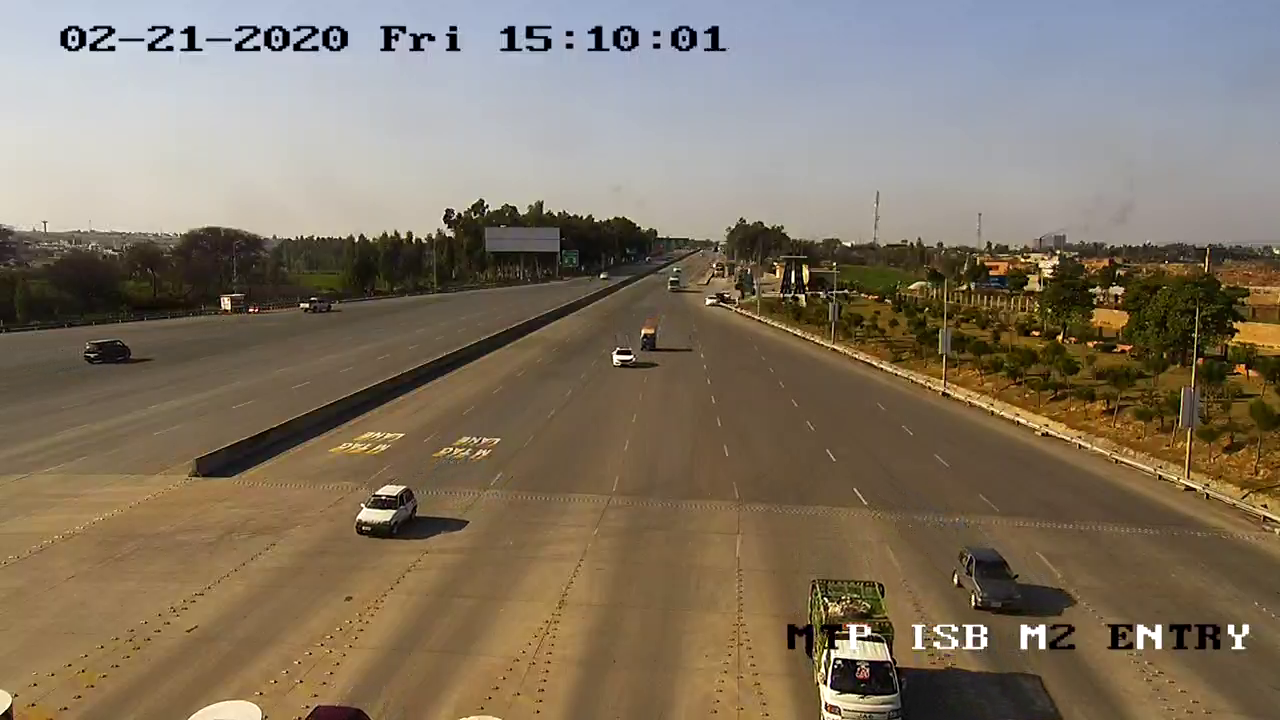f1: (944, 542, 1033, 614), (352, 481, 421, 544)
f2: (801, 572, 908, 720)
